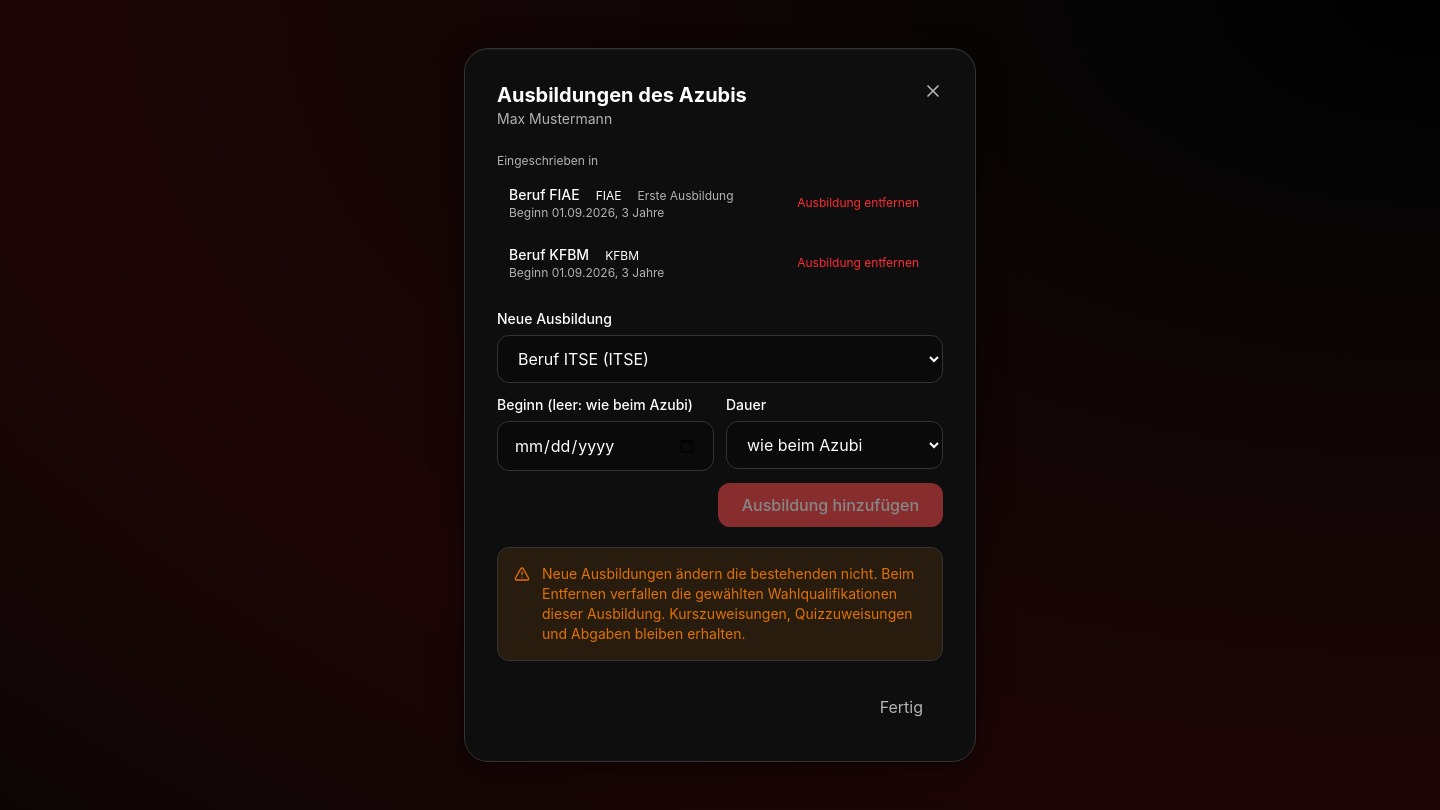
Test: TraineeEnrollmentDialog › removing a training › removes with DELETE and the explicit confirmation, then shows the rest
The image size is (1440, 810).
Click the button "Ausbildung entfernen" in the row of "Beruf KFBM" at (858, 263), box [785,249,931,277]
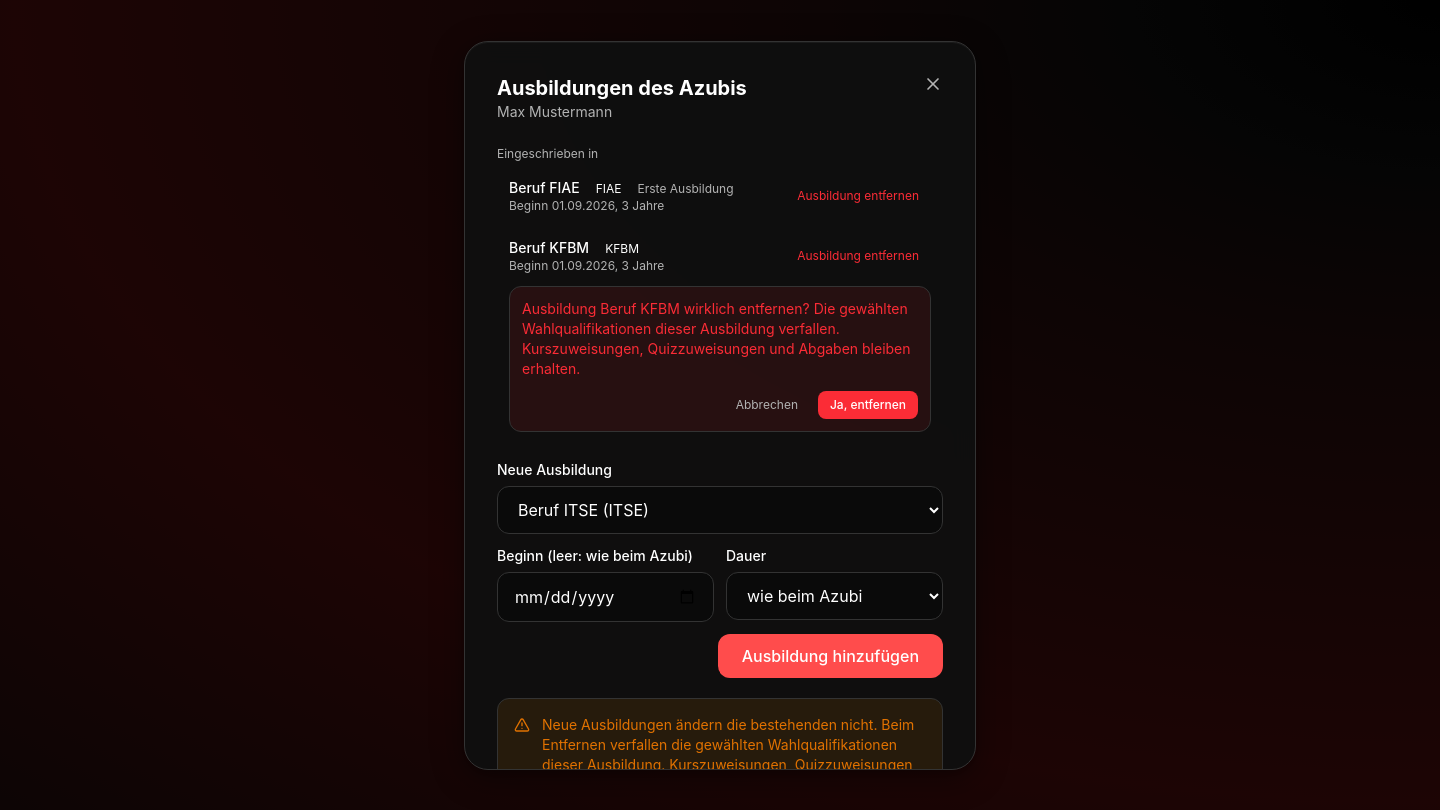
Click the button "Ja, entfernen" at (868, 404), box [818,390,918,418]
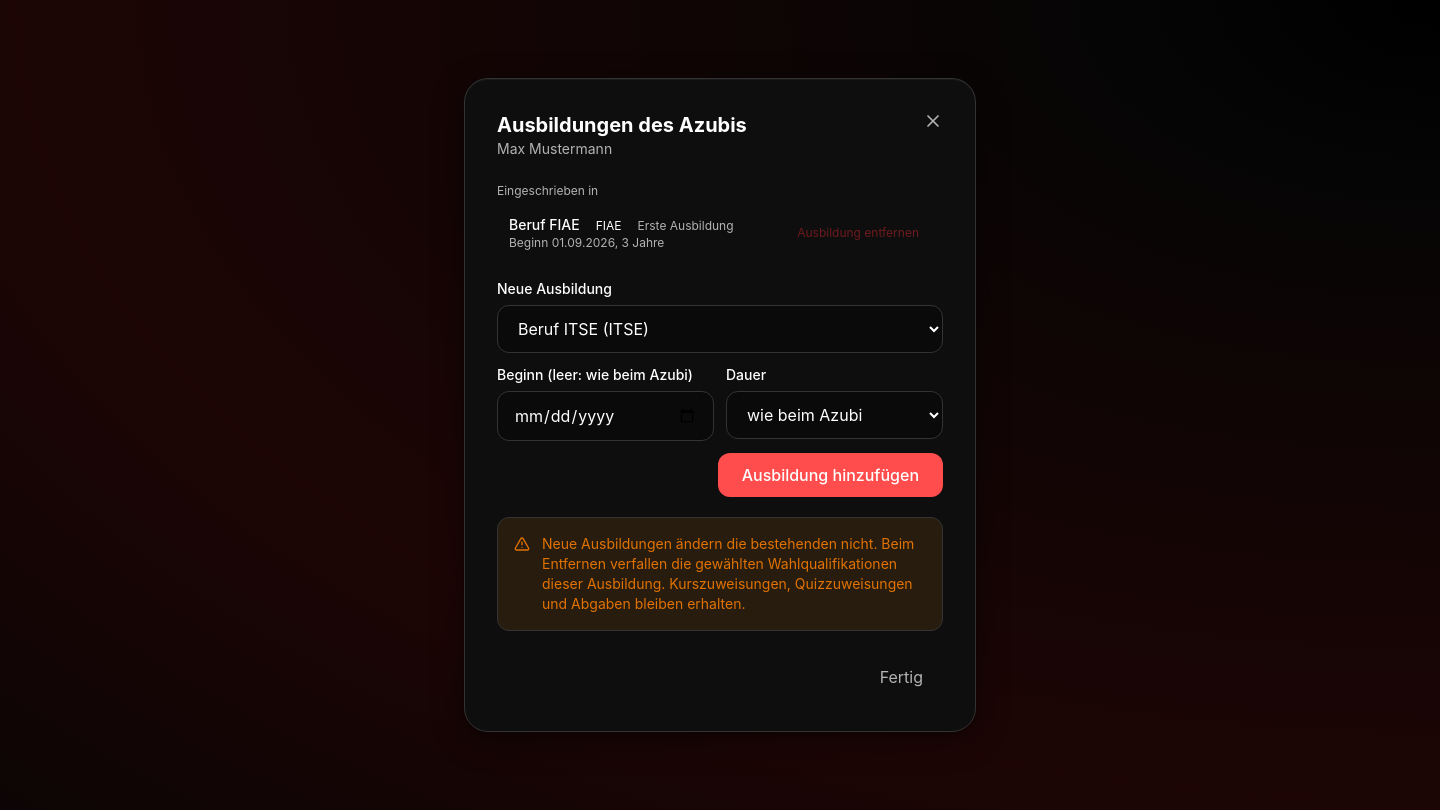
Expected: the number of list items is 1, [497,207,943,259]
